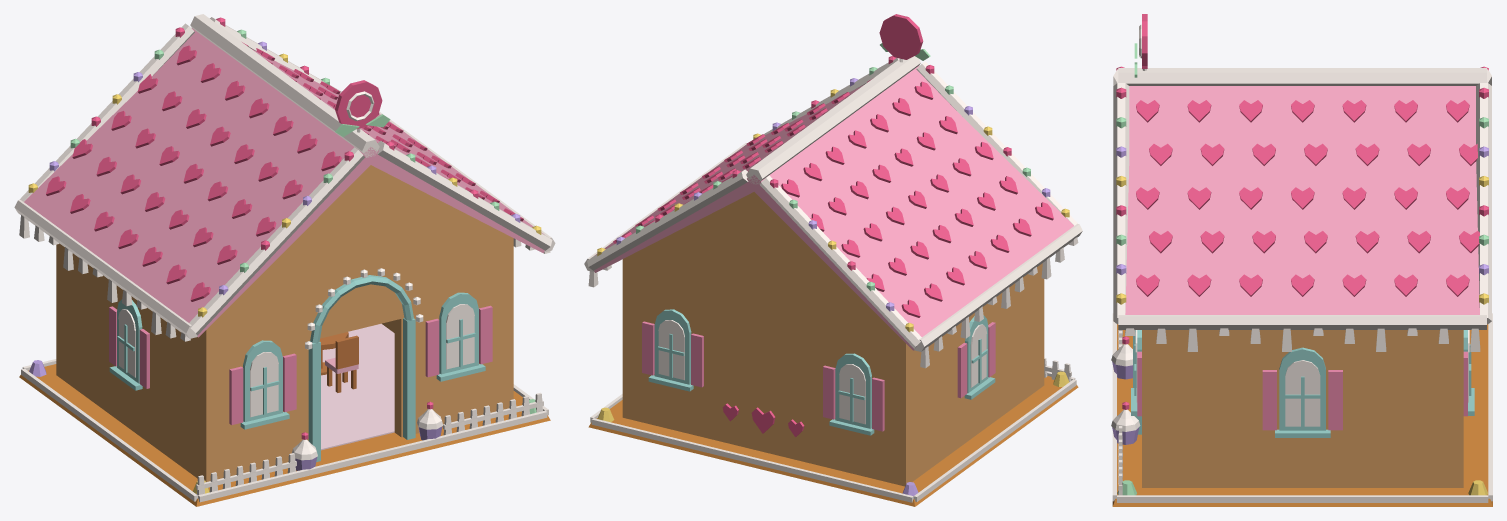
Rendered from CV3_SweetHouse.fbx.
3 views of the same model, side by side, from view 1: azimuth 30°, elevation 25°; view 2: azimuth 150°, elevation 25°; view 3: azimuth 270°, elevation 25° (orthographic). The views are drawn at different scales.
Visible parts, largest first — view 1: CV3_SweetHouse_Walls, CV3_SweetHouse_Roof, CV3_SweetHouse_Icing, CV3_SweetHouse_Hearts, CV3_SweetHouse_Accent, CV3_SweetHouse_Base, CV3_SweetHouse_Floor, CV3_SweetHouse_Trim, CV3_SweetHouse_Furniture, CV3_SweetHouse_CandyLavender, CV3_SweetHouse_CandyMint; view 2: CV3_SweetHouse_Walls, CV3_SweetHouse_Roof, CV3_SweetHouse_Icing, CV3_SweetHouse_Hearts, CV3_SweetHouse_Base, CV3_SweetHouse_Accent, CV3_SweetHouse_Trim, CV3_SweetHouse_CandyLemon, CV3_SweetHouse_CandyLavender, CV3_SweetHouse_CandyMint; view 3: CV3_SweetHouse_Roof, CV3_SweetHouse_Walls, CV3_SweetHouse_Icing, CV3_SweetHouse_Hearts, CV3_SweetHouse_Base, CV3_SweetHouse_Accent, CV3_SweetHouse_Trim, CV3_SweetHouse_CandyLavender, CV3_SweetHouse_CandyMint, CV3_SweetHouse_CandyLemon.
Boxes of the visible parts, x1,y1,x2,y2 form: CV3_SweetHouse_Walls: [56, 165, 513, 481]; CV3_SweetHouse_Roof: [24, 28, 544, 337]; CV3_SweetHouse_Icing: [14, 14, 555, 502]; CV3_SweetHouse_Hearts: [46, 17, 523, 439]; CV3_SweetHouse_Accent: [109, 275, 485, 461]; CV3_SweetHouse_Base: [19, 364, 550, 506]; CV3_SweetHouse_Floor: [321, 323, 394, 450]; CV3_SweetHouse_Trim: [109, 305, 492, 425]; CV3_SweetHouse_Furniture: [319, 332, 358, 392]; CV3_SweetHouse_CandyLavender: [29, 41, 520, 470]; CV3_SweetHouse_CandyMint: [70, 29, 536, 414]; CV3_SweetHouse_Walls: [622, 192, 1044, 486]; CV3_SweetHouse_Roof: [594, 65, 1073, 350]; CV3_SweetHouse_Icing: [584, 56, 1082, 502]; CV3_SweetHouse_Hearts: [613, 14, 1053, 436]; CV3_SweetHouse_Base: [588, 376, 1078, 506]; CV3_SweetHouse_Accent: [648, 309, 995, 435]; CV3_SweetHouse_Trim: [642, 321, 995, 431]; CV3_SweetHouse_CandyLemon: [597, 89, 1069, 422]; CV3_SweetHouse_CandyLavender: [616, 78, 1050, 496]; CV3_SweetHouse_CandyMint: [636, 43, 1030, 291]; CV3_SweetHouse_Roof: [1125, 86, 1479, 314]; CV3_SweetHouse_Walls: [1142, 330, 1463, 487]; CV3_SweetHouse_Icing: [1111, 24, 1492, 502]; CV3_SweetHouse_Hearts: [1116, 14, 1488, 409]; CV3_SweetHouse_Base: [1112, 324, 1492, 506]; CV3_SweetHouse_Accent: [1131, 330, 1474, 437]; CV3_SweetHouse_Trim: [1137, 351, 1467, 430]; CV3_SweetHouse_CandyLavender: [1112, 146, 1488, 444]; CV3_SweetHouse_CandyMint: [1116, 43, 1488, 495]; CV3_SweetHouse_CandyLemon: [1116, 176, 1488, 495].
Size of the model in its own units: 31.24 by 29.93 by 26.1.
